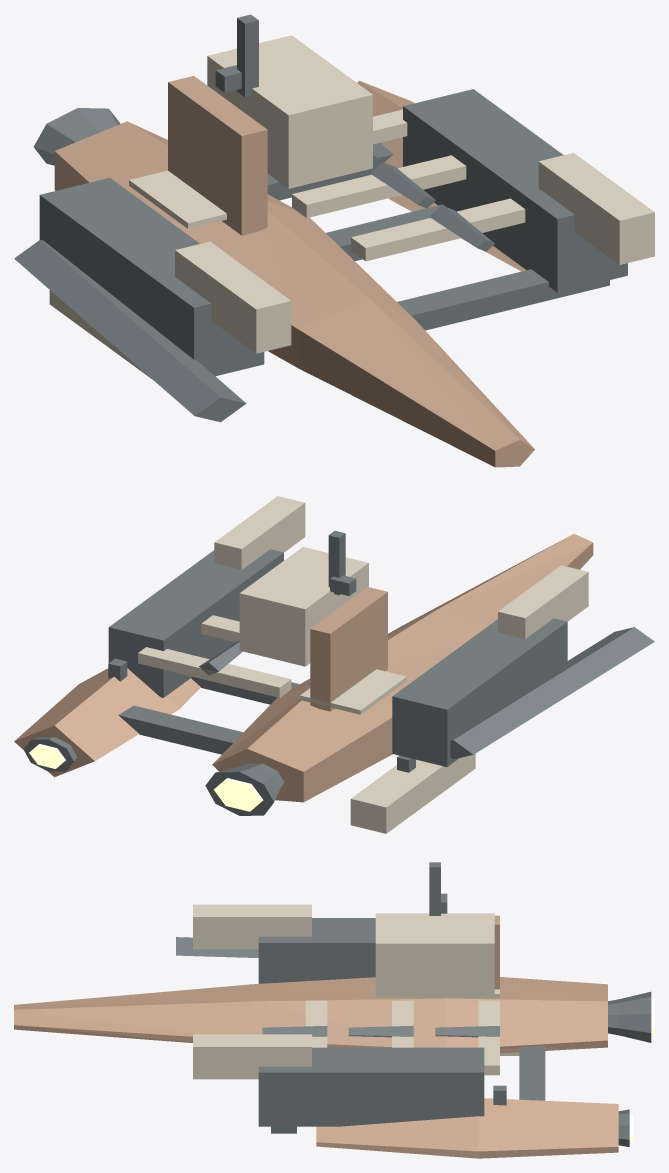
The picture shows the model from 3 angles, top to bottom: view 1: azimuth 30°, elevation 25°; view 2: azimuth 150°, elevation 25°; view 3: azimuth 270°, elevation 25°; orthographic projection. The views are drawn at different scales.
Bounding box in the file's own units: 15.13 × 8.22 × 21.56.
